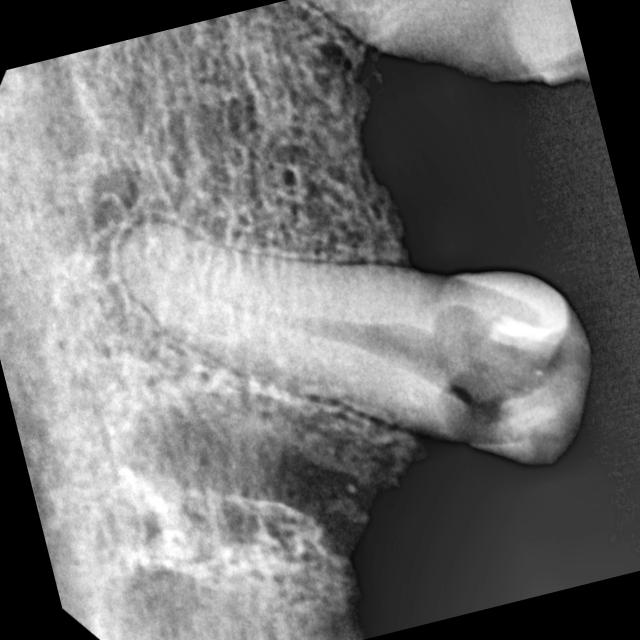Abcess: (2, 232, 217, 632)
Badly Decayed: (100, 179, 605, 462)
